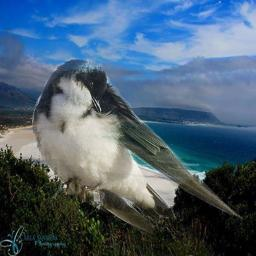Swallow: (28, 56, 243, 236)
